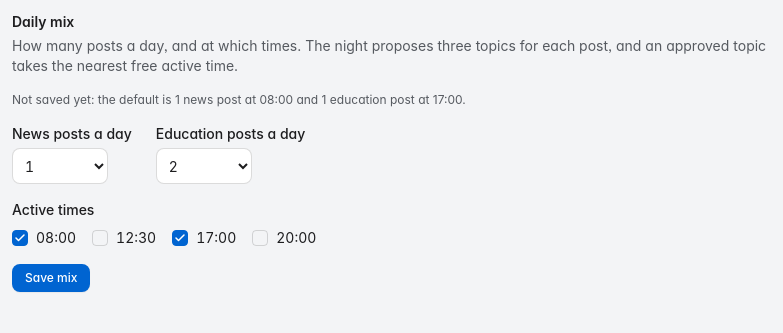
Test: Zdroje → Denní mix (#156) › shows the default, refuses more posts than active times, and saves a valid mix
The width and height of the screenshot is (783, 333).
Select "2" in the dropdown labelled "Education posts a day": (204, 166) x1=156 y1=148 x2=252 y2=184
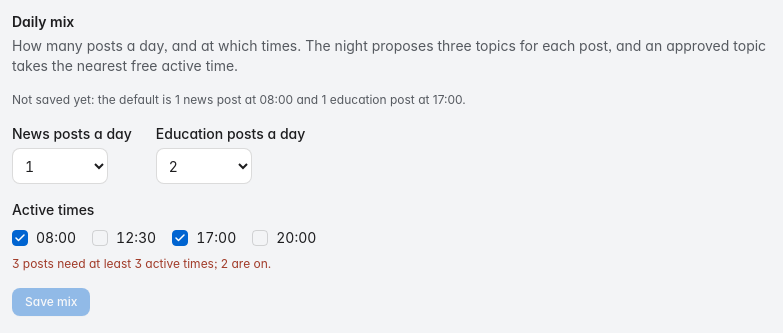
Expected: the submit button is disabled, x1=12 y1=288 x2=90 y2=316
Click the checkbox next to "12:30": (100, 238) x1=92 y1=230 x2=108 y2=246
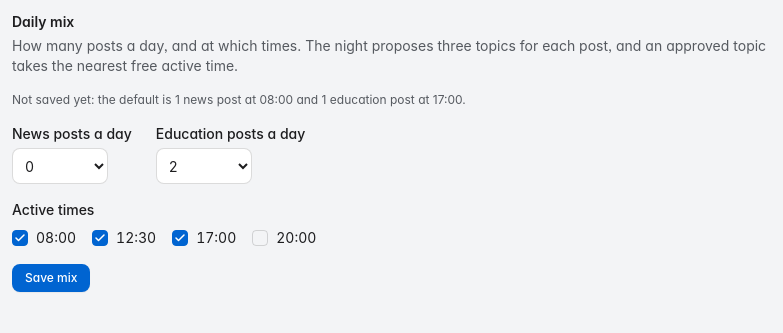
Select "0" in the dropdown labelled "News posts a day": (60, 166) x1=12 y1=148 x2=108 y2=184
Submit the form, box x1=12 y1=125 x2=316 y2=292
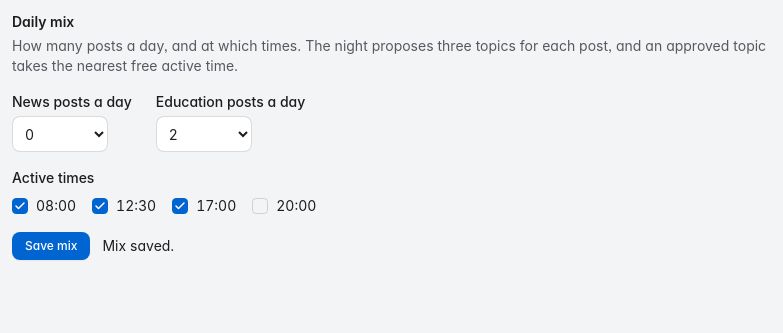
Expected: the text "Mix saved." is shown, x1=102 y1=236 x2=174 y2=256
